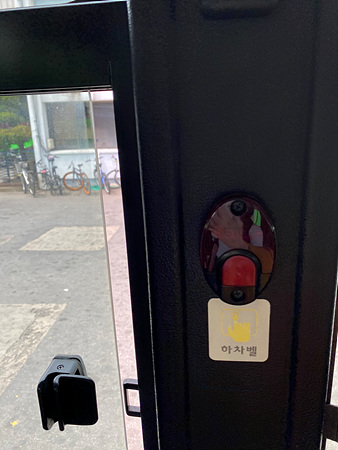bell: (203, 197, 277, 306)
